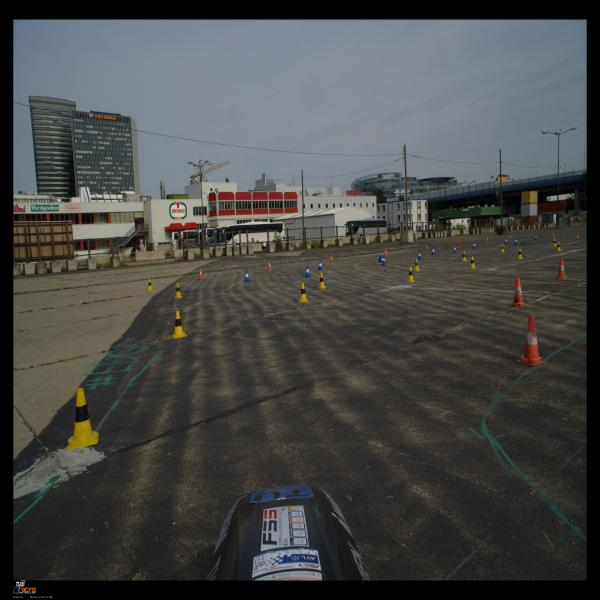blue_cone: (304, 265, 311, 278), (244, 270, 250, 282), (378, 255, 386, 262), (318, 260, 323, 270), (381, 256, 386, 266), (417, 251, 422, 259), (452, 245, 457, 253), (432, 247, 436, 255), (534, 234, 538, 240), (514, 238, 518, 244), (504, 238, 508, 244), (473, 242, 476, 249)
orange_cone: (516, 315, 548, 366), (509, 277, 527, 307), (555, 258, 568, 279), (198, 268, 204, 280), (267, 260, 272, 271), (574, 233, 580, 241), (329, 254, 333, 263), (384, 248, 388, 256), (426, 244, 429, 251), (457, 242, 461, 246), (509, 234, 512, 239), (552, 231, 554, 238), (486, 236, 488, 242)
yellow_cone: (66, 388, 99, 450), (171, 311, 187, 338), (298, 282, 309, 302), (406, 266, 416, 282), (173, 283, 183, 298), (318, 272, 326, 289), (468, 256, 477, 269), (413, 258, 420, 271), (516, 248, 524, 259), (147, 279, 154, 291), (556, 241, 562, 252), (462, 251, 468, 261), (552, 238, 557, 246), (500, 244, 505, 252)
